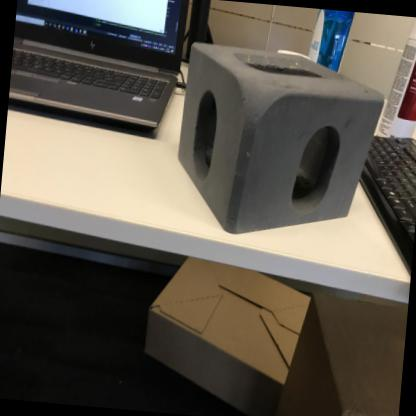CornerCasting: (167, 40, 391, 255)
